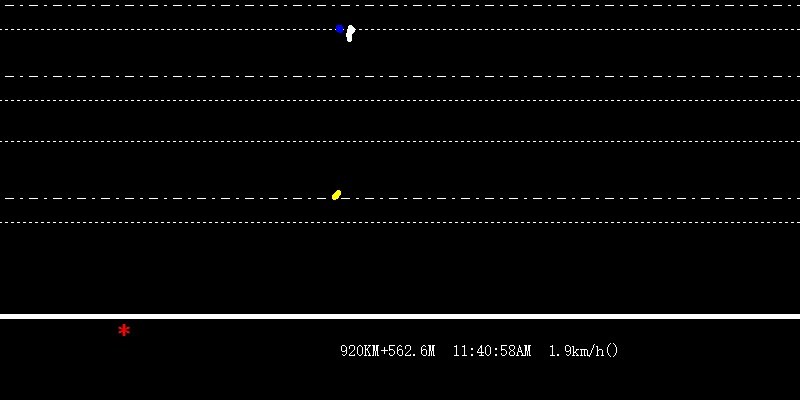face_1: (344, 25, 355, 42), (334, 22, 344, 35)
star: (116, 321, 130, 336)
